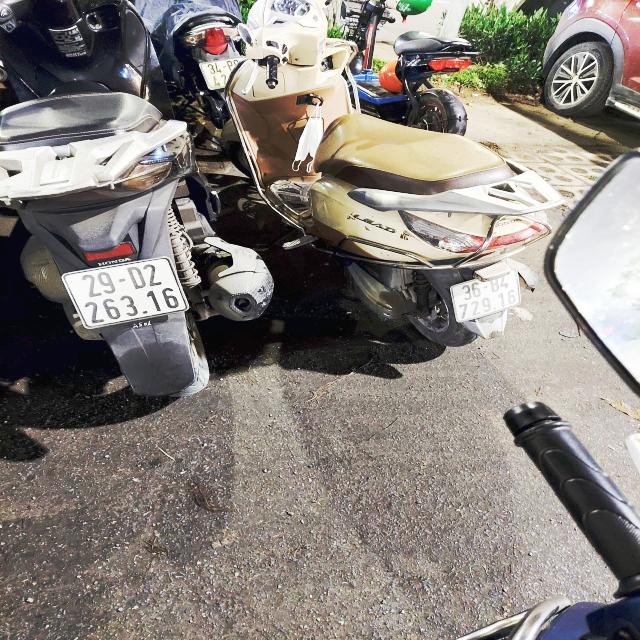license_plate: (67, 256, 191, 332), (450, 268, 523, 323)
